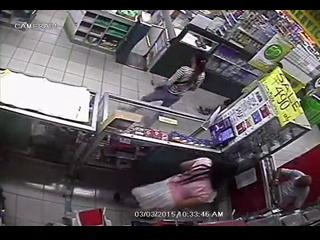Normal: (139, 54, 209, 107)
